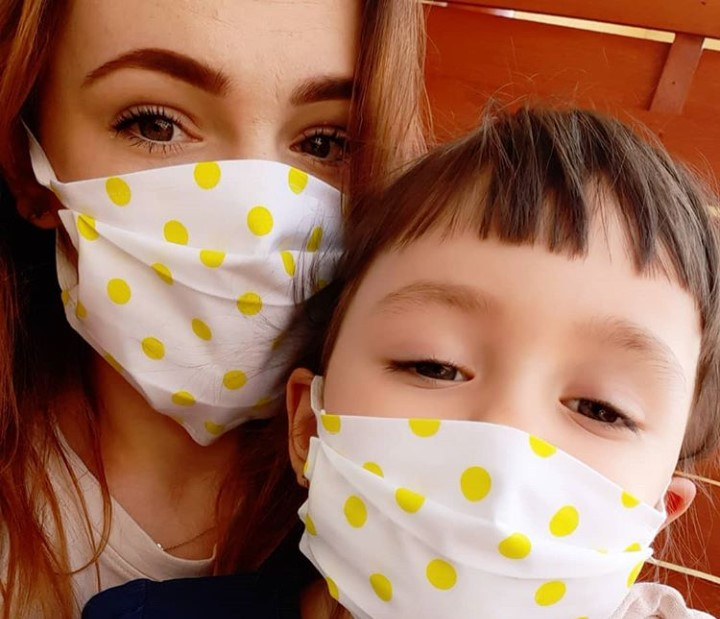face_with_mask: (313, 102, 711, 612), (8, 6, 417, 453)
